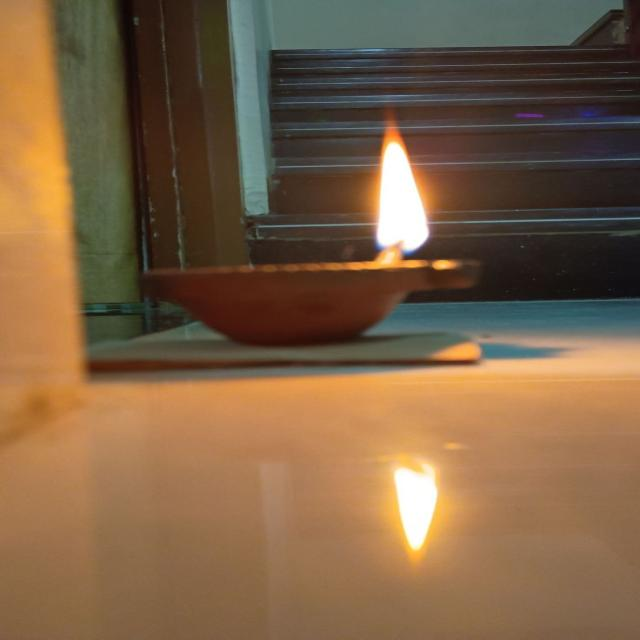fire: (373, 113, 432, 259)
